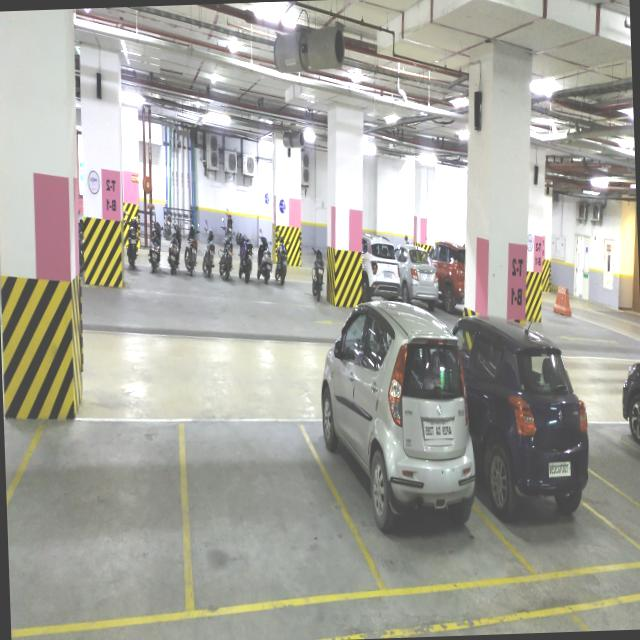car: (366, 428, 476, 574), (496, 416, 592, 579)
free: (28, 431, 178, 604), (199, 446, 333, 596)
